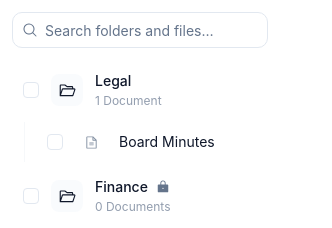
it: DealRoomFolderTree toolbar › lets contributors select and upload without manage chrome
Expected: the field labelled "Search folders and files…" is shown, 12,12 -> 268,48
Step 1. Click the checkbox named "Legal" → click(31, 90), box 23,82 -> 39,98
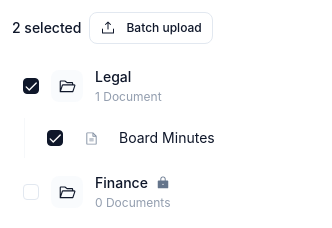
Expected: the text "2 selected" is shown, 12,18 -> 82,38
Expected: the button with test id "folder-tree-bulk-upload" is shown, 90,12 -> 213,44
Expected: the element showing "2 selected Batch upload" is shown, 12,12 -> 213,44
